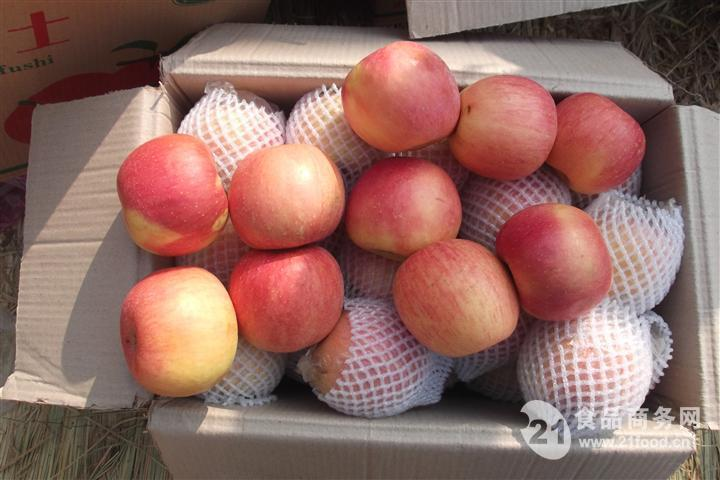apple: (117, 264, 238, 399), (390, 235, 519, 359), (495, 200, 613, 325), (115, 133, 229, 255), (225, 242, 344, 356), (341, 39, 458, 152), (227, 139, 343, 250), (343, 155, 464, 259), (448, 74, 559, 180), (534, 88, 644, 194)
